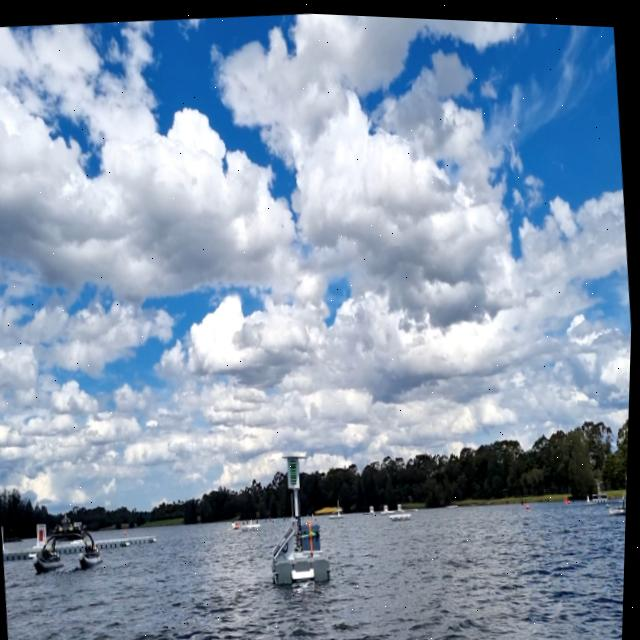led: (290, 454, 303, 483)
